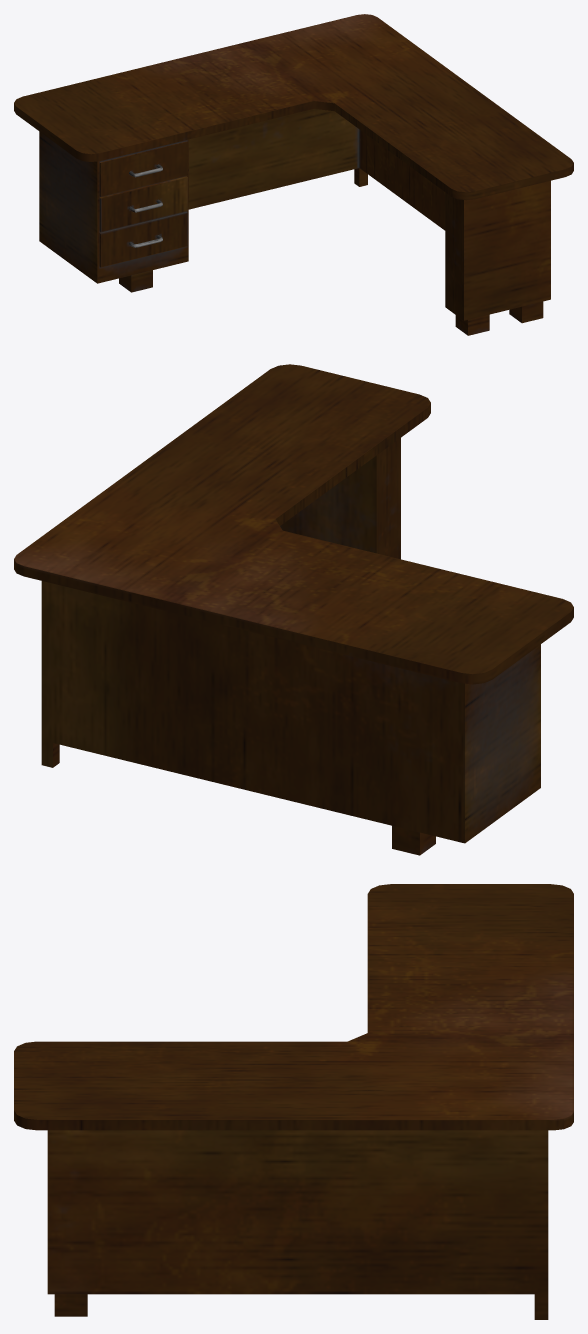
The model's file is Office Desk L.fbx.
The picture shows the model from 3 angles, top to bottom: view 1: azimuth 30°, elevation 25°; view 2: azimuth 150°, elevation 25°; view 3: azimuth 270°, elevation 25°; orthographic projection. The views are drawn at different scales.
Parts seen in each view (by area): view 1: Office Desk L; view 2: Office Desk L; view 3: Office Desk L.
Part boxes in pixels (x1=…): Office Desk L: x1=14, y1=14, x2=573, y2=335; Office Desk L: x1=14, y1=364, x2=573, y2=855; Office Desk L: x1=14, y1=884, x2=573, y2=1319.
Bounding box in the file's own units: 204 × 85.12 × 205.
